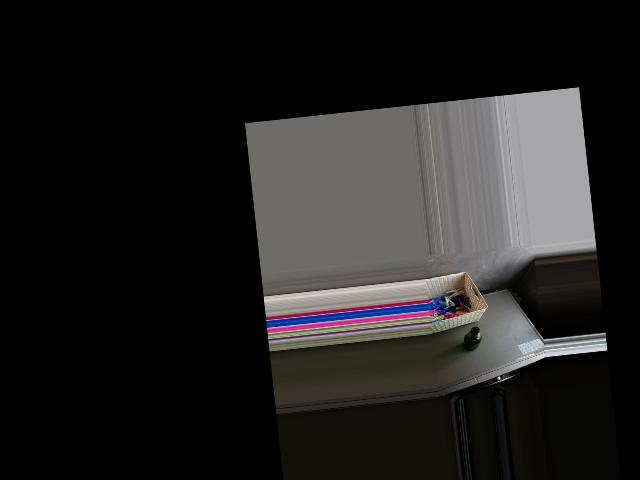beer: (462, 326, 481, 352)
